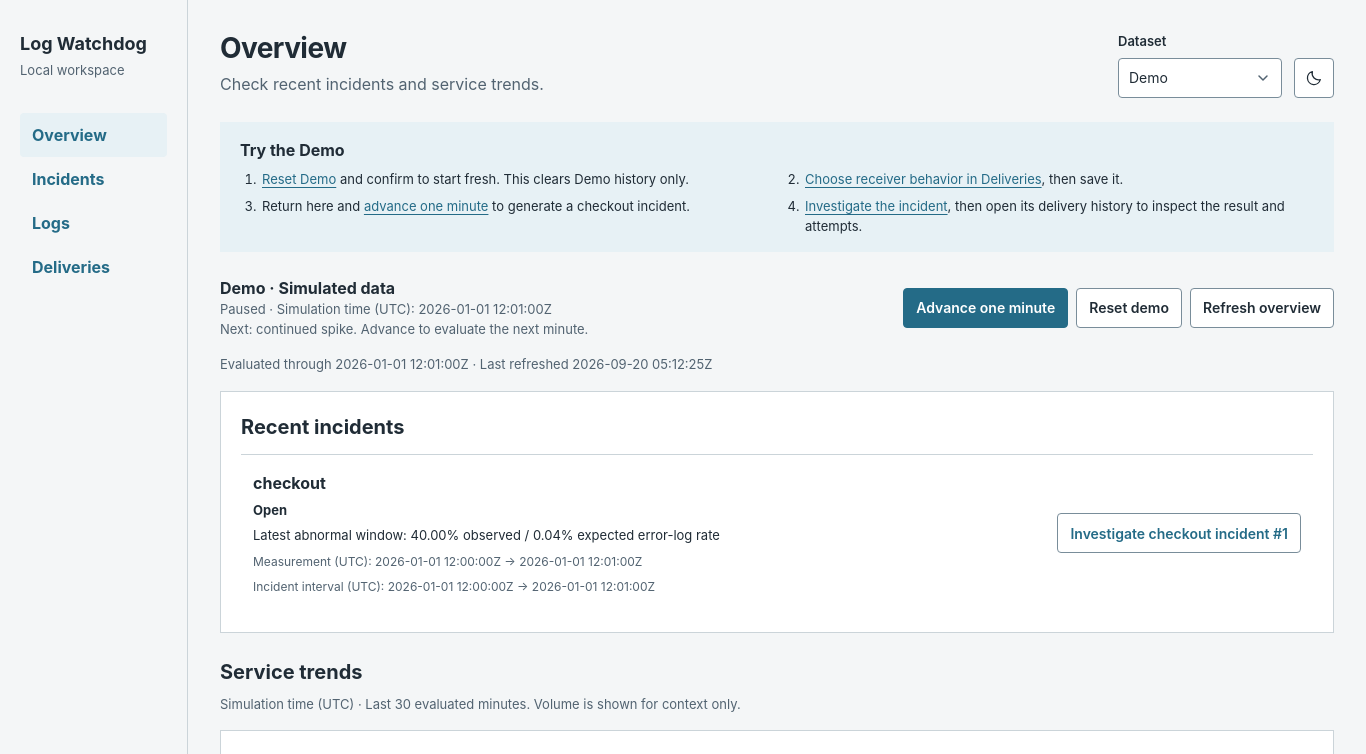
returns from primary Logs with saved focus removed-control to visible incident detail
Step 1. Click the link "Investigate checkout incident #1" → click(1179, 533), box [1057,513,1301,553]
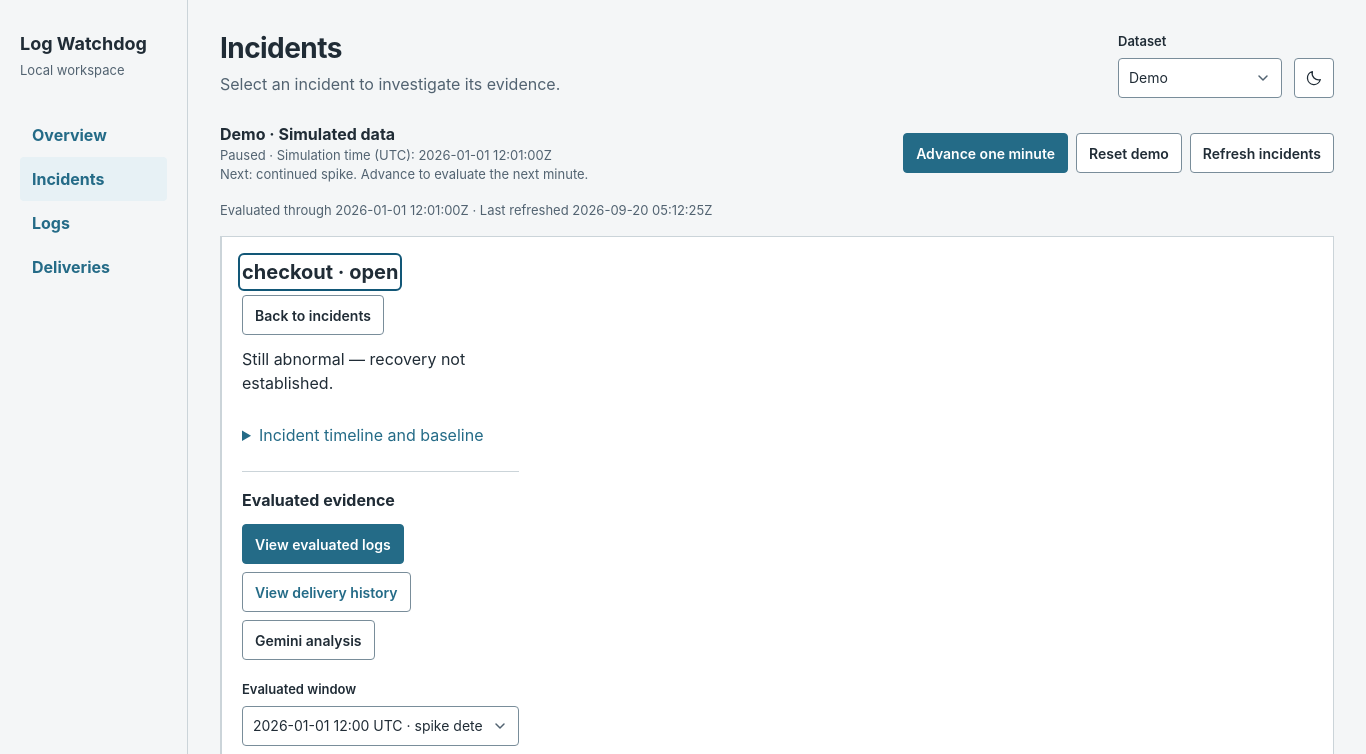
expect the link "View evaluated logs" is shown: met, box [242,524,404,564]
Step 2. Click the link "Logs" → click(51, 222), box [32,212,70,232]
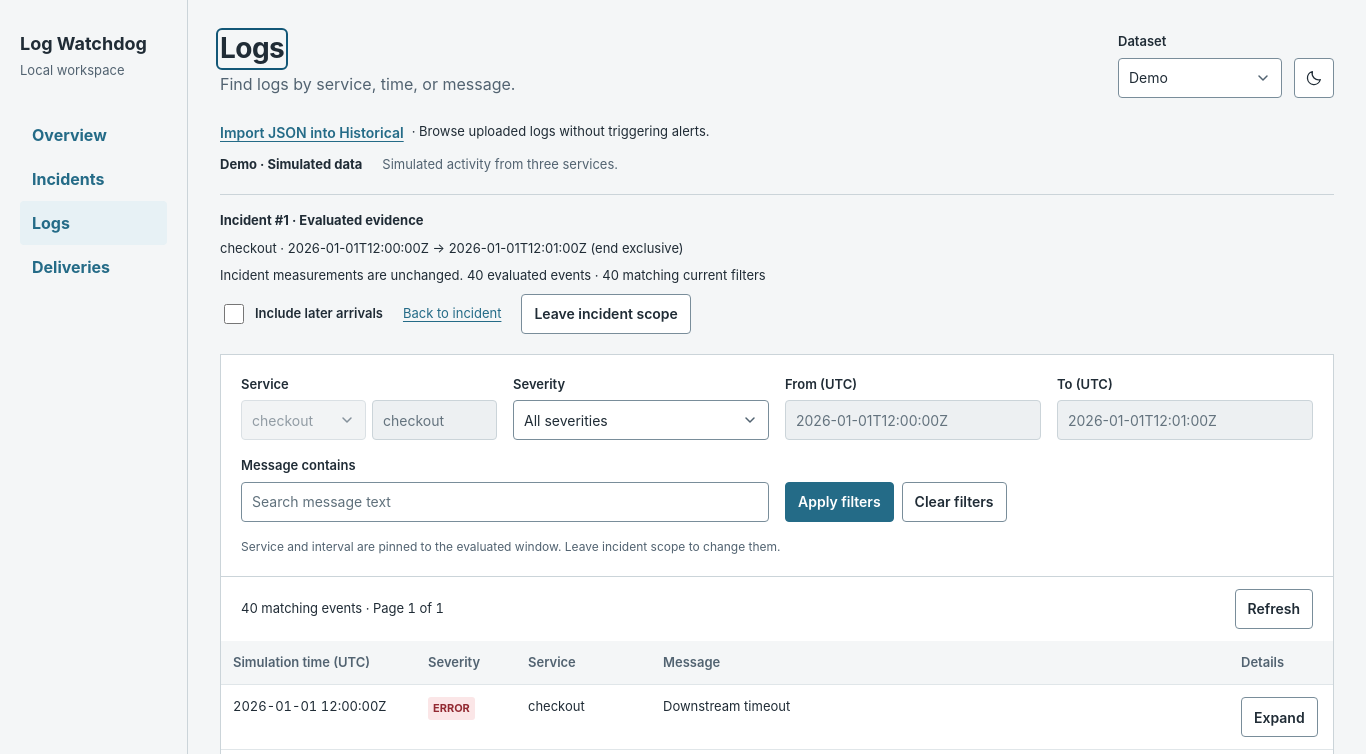
expect the heading "Logs" is shown: met, box [220,32,284,66]
Step 3. Click the link "Back to incident" → click(452, 314), box [403,304,502,323]
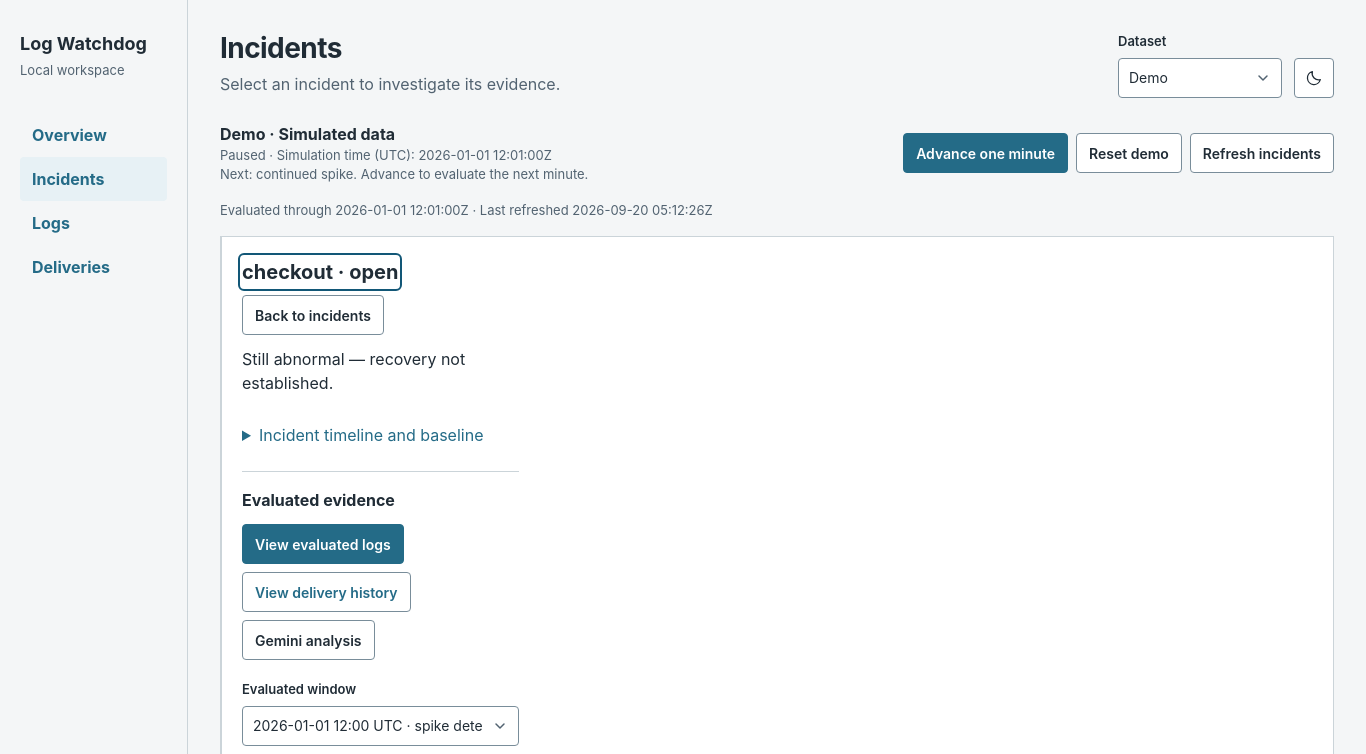
expect the heading "checkout · open" is shown: met, box [242,257,398,287]
